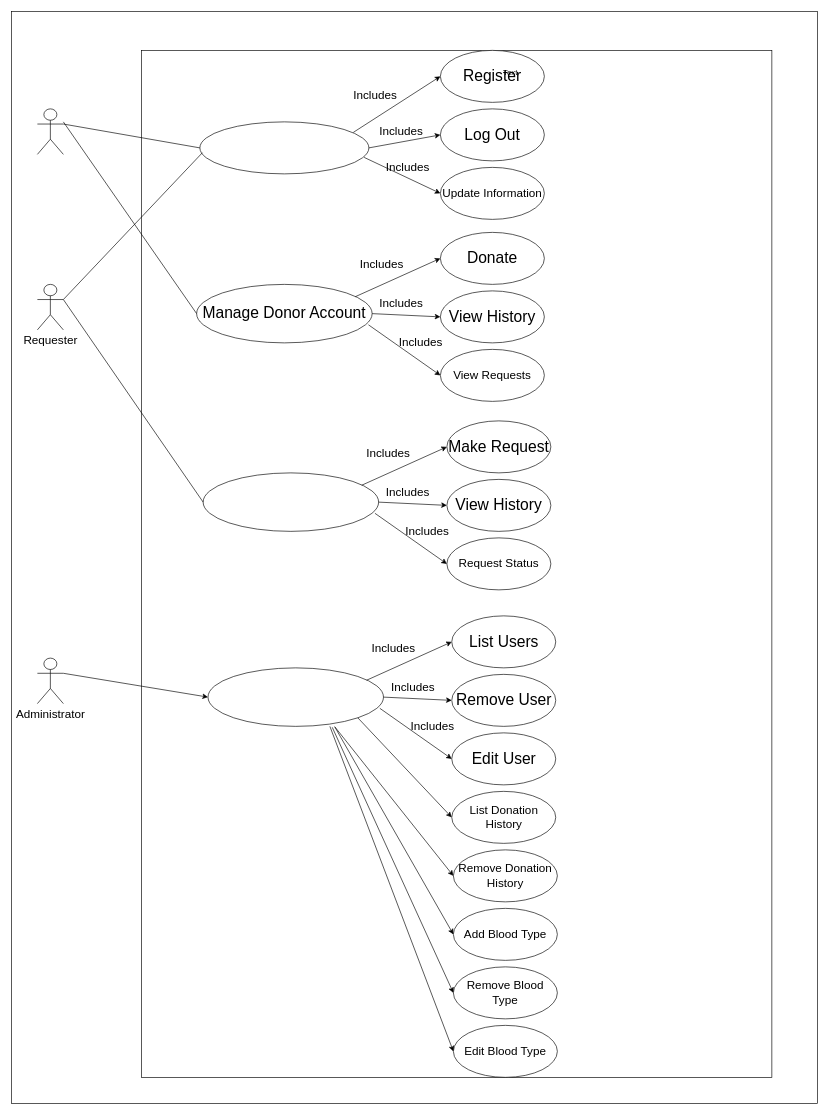
This 829x1115 diagram has some shape labels left out. Here are the shapes that lost their labels. From the top down, the centre of each, then its label:
the point at 50,131: Donor
the point at 284,147: Manage User Authentication System
the point at 290,501: Manage Requester Account
the point at 295,696: Manage Admin Account
